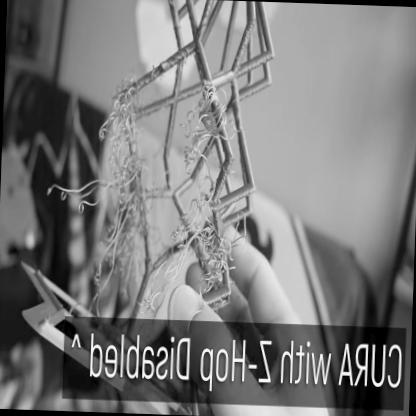fail: (102, 109, 144, 196), (198, 223, 228, 288), (181, 103, 214, 159)
